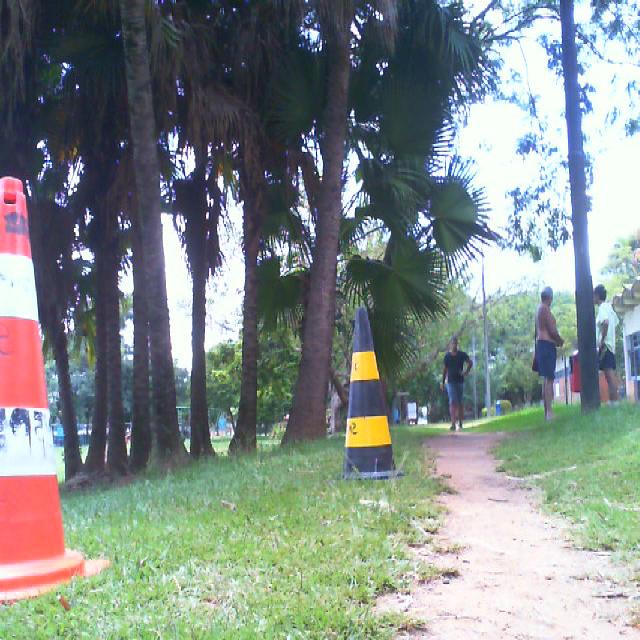cone: (0, 177, 111, 604), (332, 308, 406, 483)
